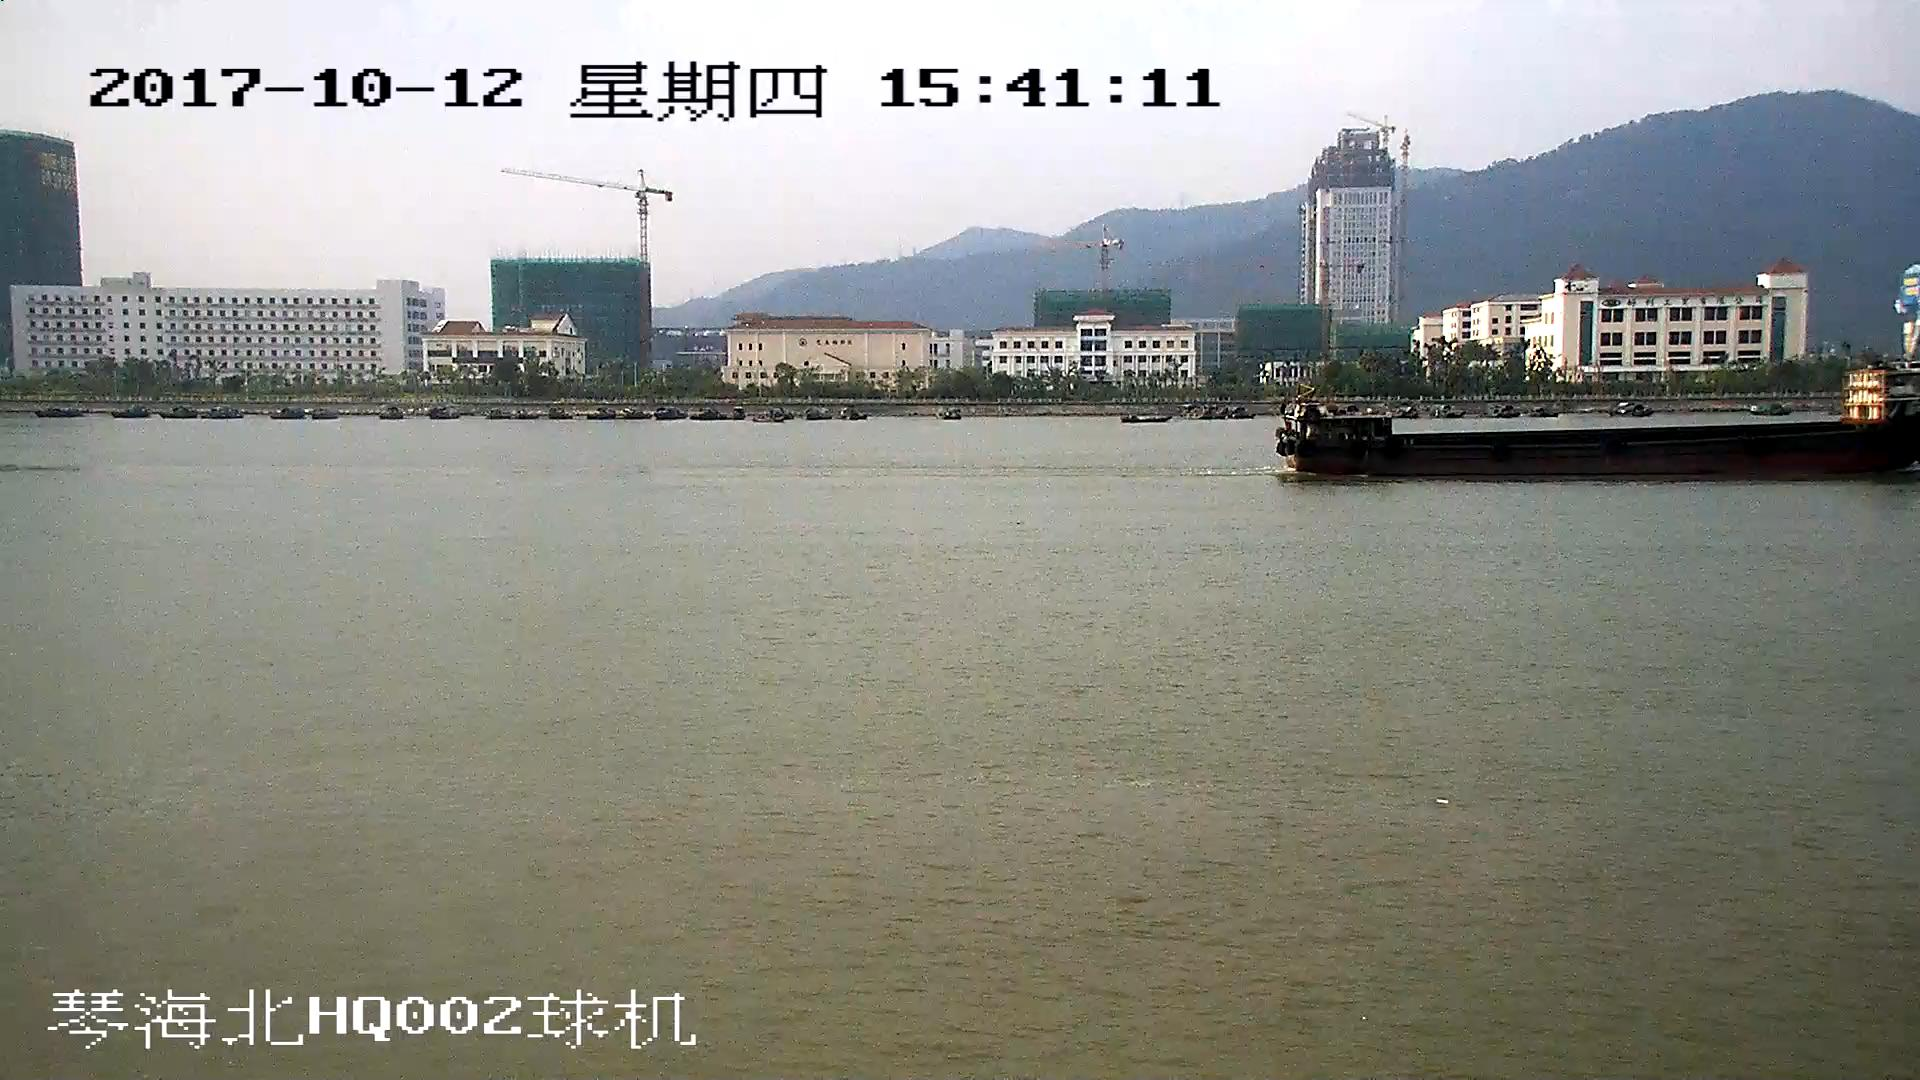general cargo ship: (1278, 360, 1920, 476)
